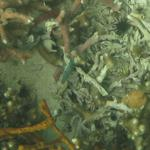alive: (7, 8, 147, 148)
